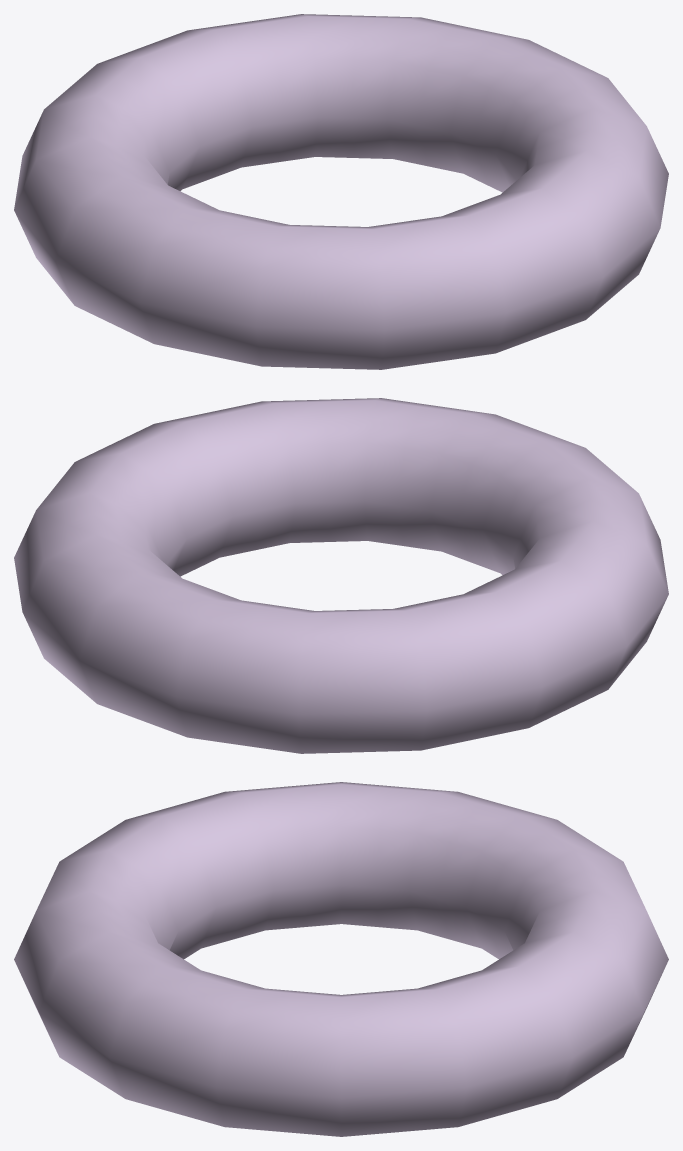
Rendered from SuperToroid.gltf.
The picture shows the model from 3 angles, top to bottom: view 1: azimuth 30°, elevation 25°; view 2: azimuth 150°, elevation 25°; view 3: azimuth 270°, elevation 25°; orthographic projection.
Visible parts, largest first — view 1: SuperToroid; view 2: SuperToroid; view 3: SuperToroid.
Boxes of the visible parts, x1=… form: SuperToroid: x1=14, y1=14, x2=668, y2=369; SuperToroid: x1=14, y1=398, x2=668, y2=753; SuperToroid: x1=14, y1=782, x2=668, y2=1136.
Size of the model in its own units: 2.6 by 0.6 by 2.6.
